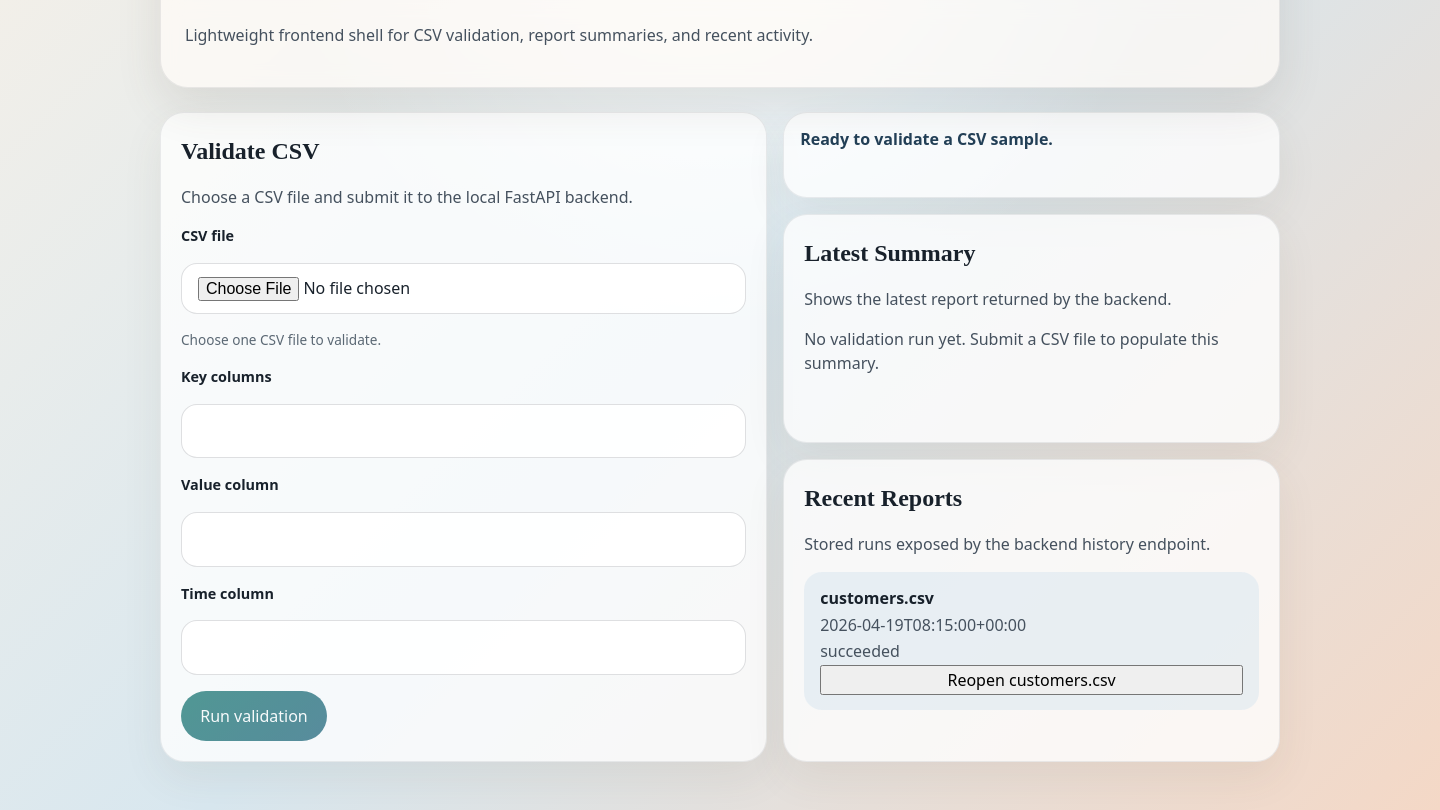
loads recent reports from the backend and reopens a stored report
(page scrolled)
Expected: the text "customers.csv" is shown, [820,587,934,609]
Click the button "Reopen customers.csv" at coordinates (1032, 680), box [820,665,1243,695]
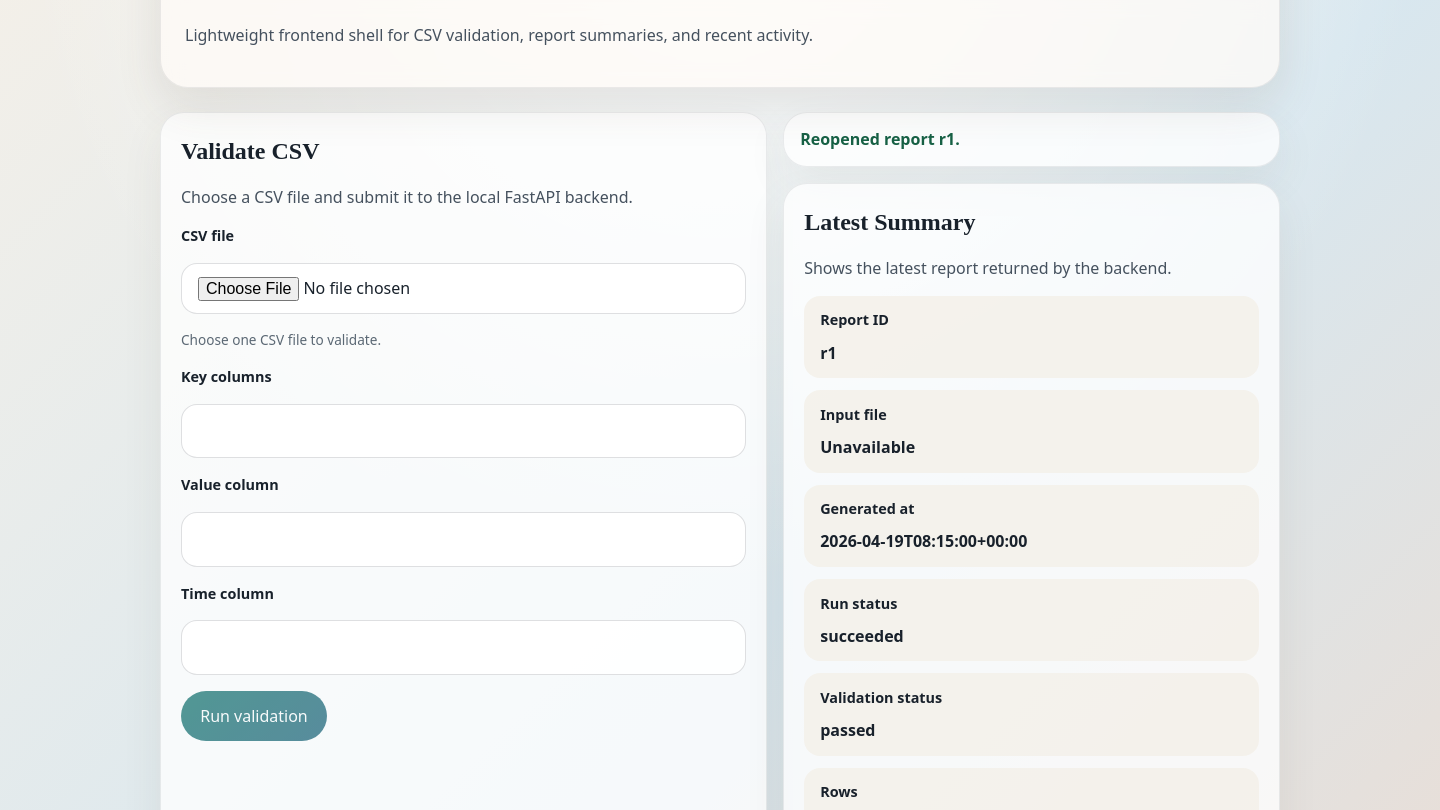
Expected: the text "r1" is shown, [820,342,837,364]
Expected: the text "passed" is shown, [820,719,876,741]
Expected: the text "Reopened report r1." is shown, [783,112,1280,167]
